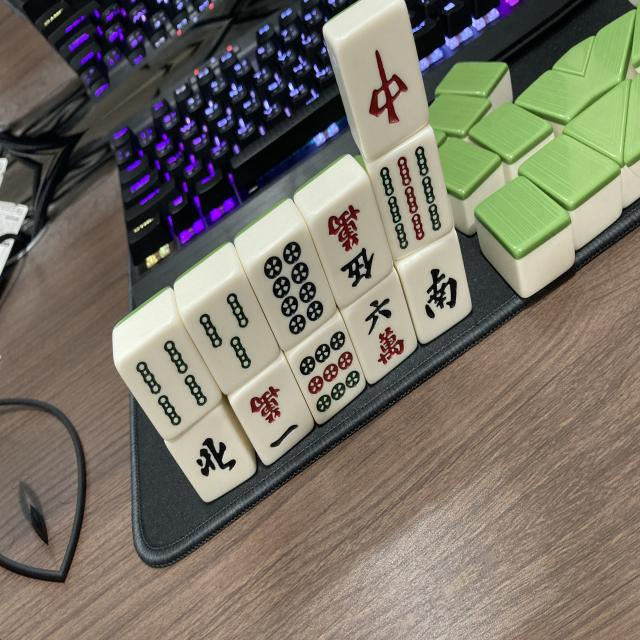1C: (228, 361, 322, 468)
3B: (185, 272, 288, 394)
4B: (116, 326, 224, 448)
5C: (304, 186, 405, 310)
6C: (335, 274, 425, 381)
8D: (242, 228, 343, 352)
9B: (361, 128, 459, 262)
9D: (286, 318, 377, 424)
NW: (169, 406, 260, 504)
RD: (327, 2, 432, 160)
SW: (390, 232, 479, 344)
